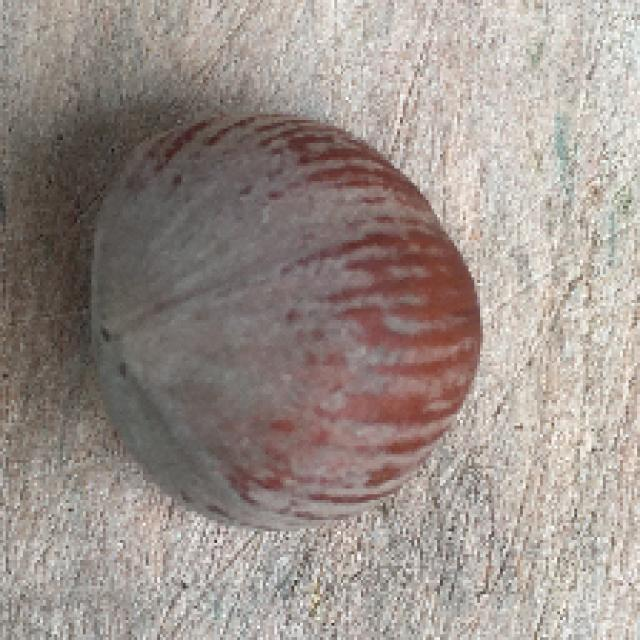QualityHazelnut: (81, 109, 482, 529)
